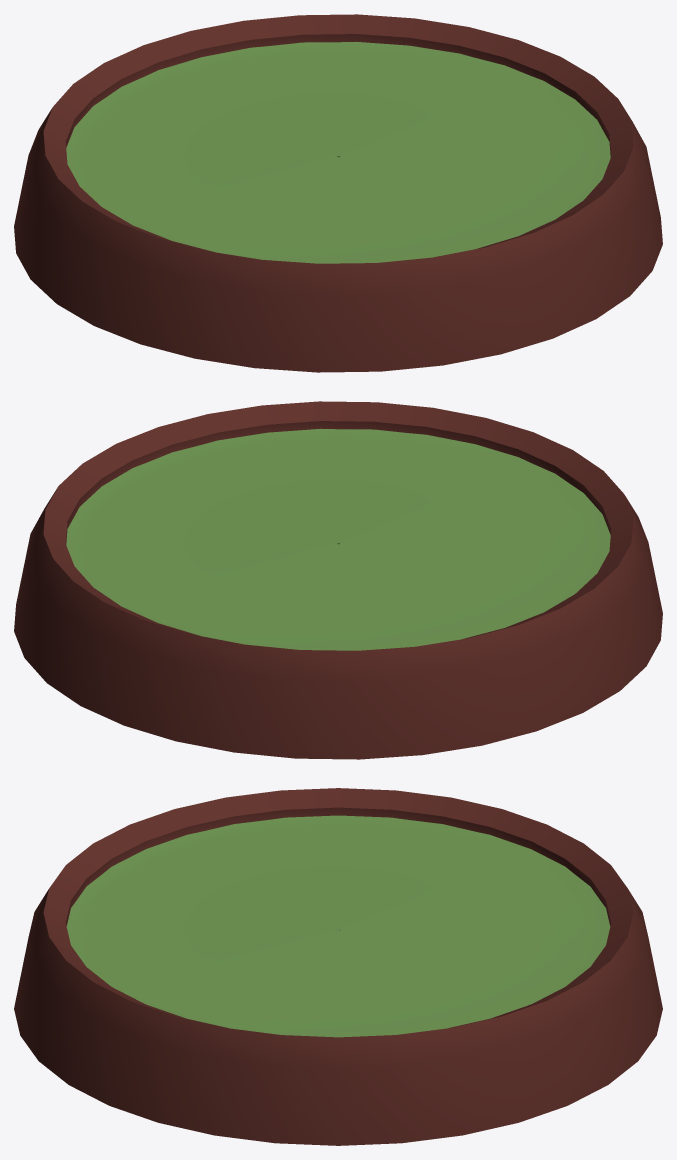
The model's file is TheGreen.fbx.
3 renders of one model, top to bottom at view 1: azimuth 30°, elevation 25°; view 2: azimuth 150°, elevation 25°; view 3: azimuth 270°, elevation 25°, orthographic.
Parts seen in each view (by area): view 1: Border1, TheGreen; view 2: Border1, TheGreen; view 3: Border1, TheGreen.
Part boxes in pixels (left/top/right/bottom): Border1: left=14, top=14, right=662, bottom=372; TheGreen: left=66, top=41, right=610, bottom=263; Border1: left=14, top=401, right=662, bottom=759; TheGreen: left=66, top=428, right=610, bottom=650; Border1: left=14, top=788, right=662, bottom=1145; TheGreen: left=66, top=815, right=610, bottom=1037.
Size of the model in its own units: 4.48 by 0.7323 by 4.48.
